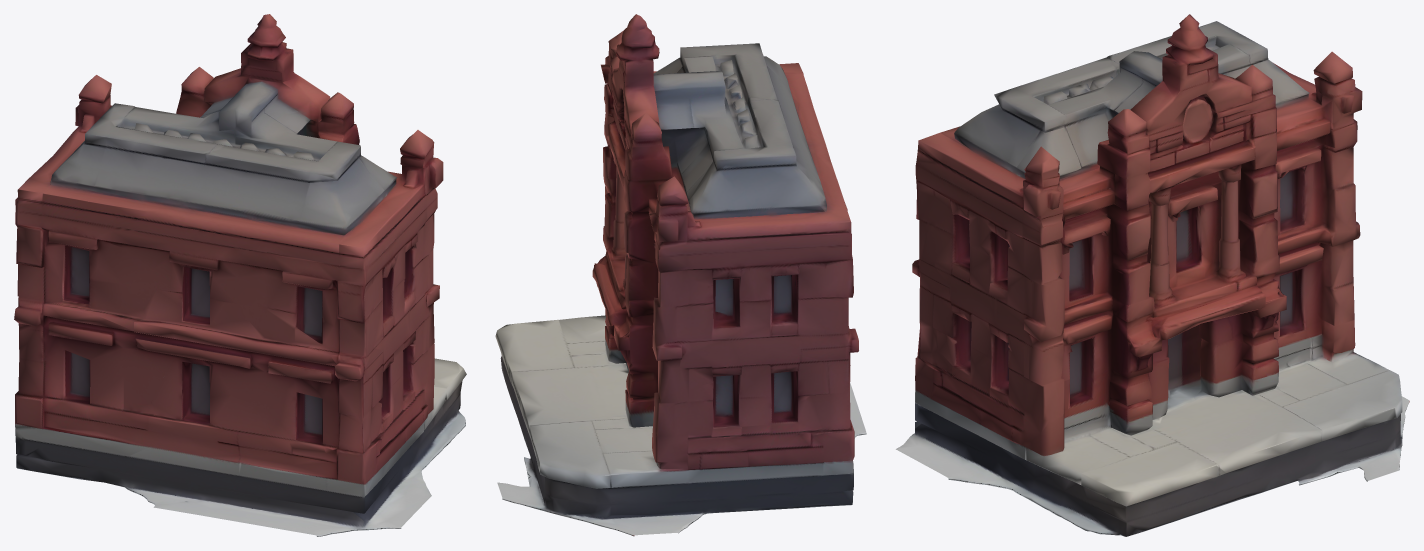
The model's file is customs.glb.
3 renders of one model, left to right at view 1: azimuth 30°, elevation 25°; view 2: azimuth 150°, elevation 25°; view 3: azimuth 270°, elevation 25°, orthographic. The views are drawn at different scales.
Visible parts, largest first — view 1: tripo_node_1c6b1f82-4a08-4178-99ef-f2897824a007; view 2: tripo_node_1c6b1f82-4a08-4178-99ef-f2897824a007; view 3: tripo_node_1c6b1f82-4a08-4178-99ef-f2897824a007.
Part boxes in pixels (bbox=[...]): tripo_node_1c6b1f82-4a08-4178-99ef-f2897824a007: bbox=[14, 14, 466, 536]; tripo_node_1c6b1f82-4a08-4178-99ef-f2897824a007: bbox=[495, 14, 866, 536]; tripo_node_1c6b1f82-4a08-4178-99ef-f2897824a007: bbox=[896, 14, 1409, 536].
Bounding box in the file's own units: 1.02 × 1 × 1.06.
Materials: 1 (1 with a texture image).
